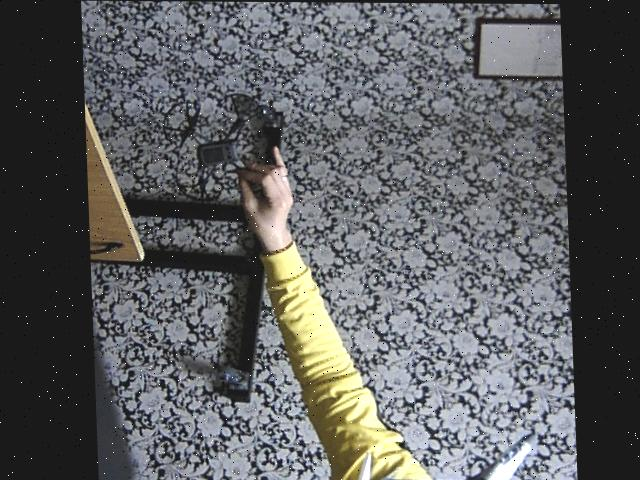drone: (158, 81, 292, 213)
